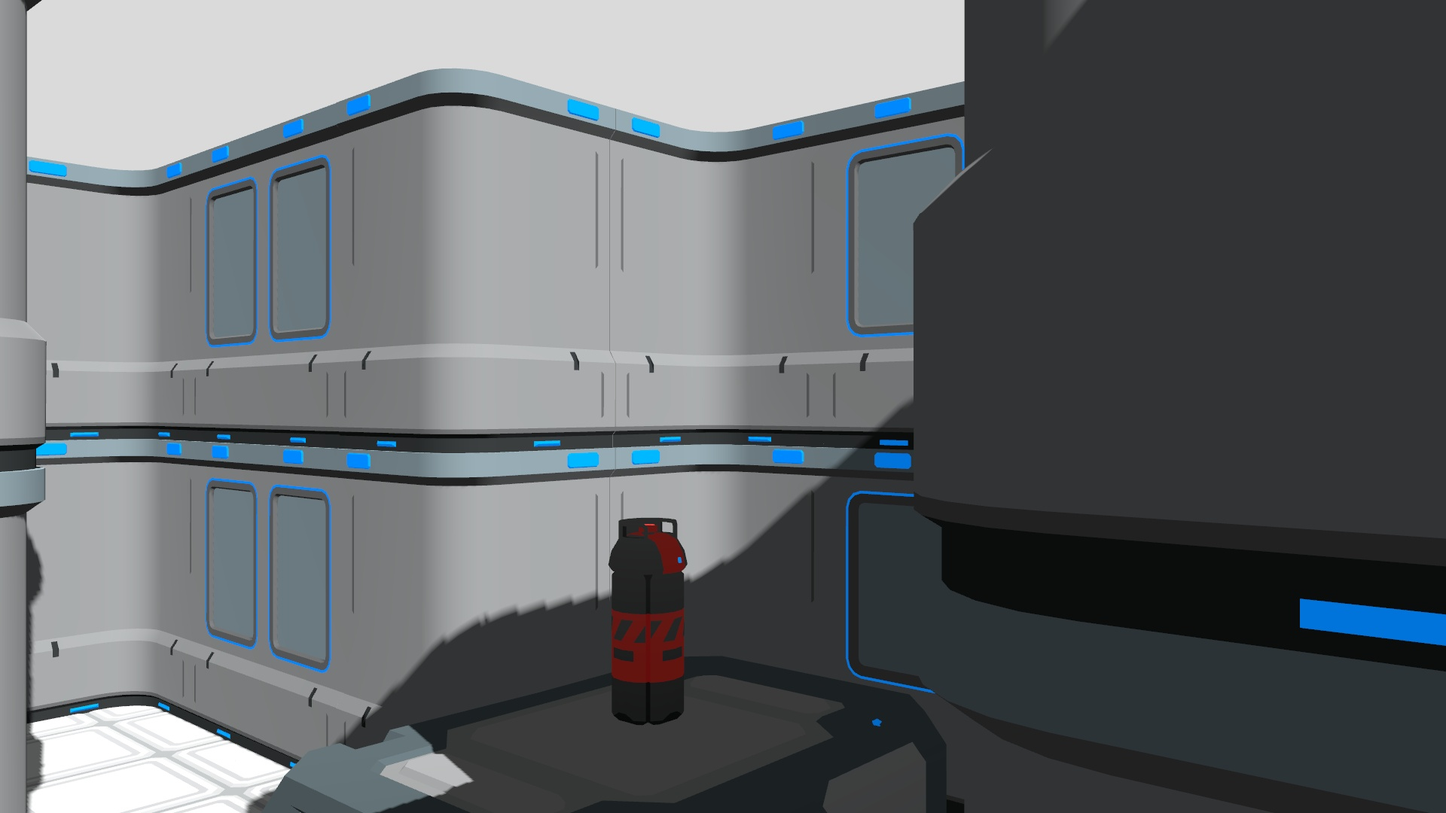red_barrel: (607, 509, 695, 731)
